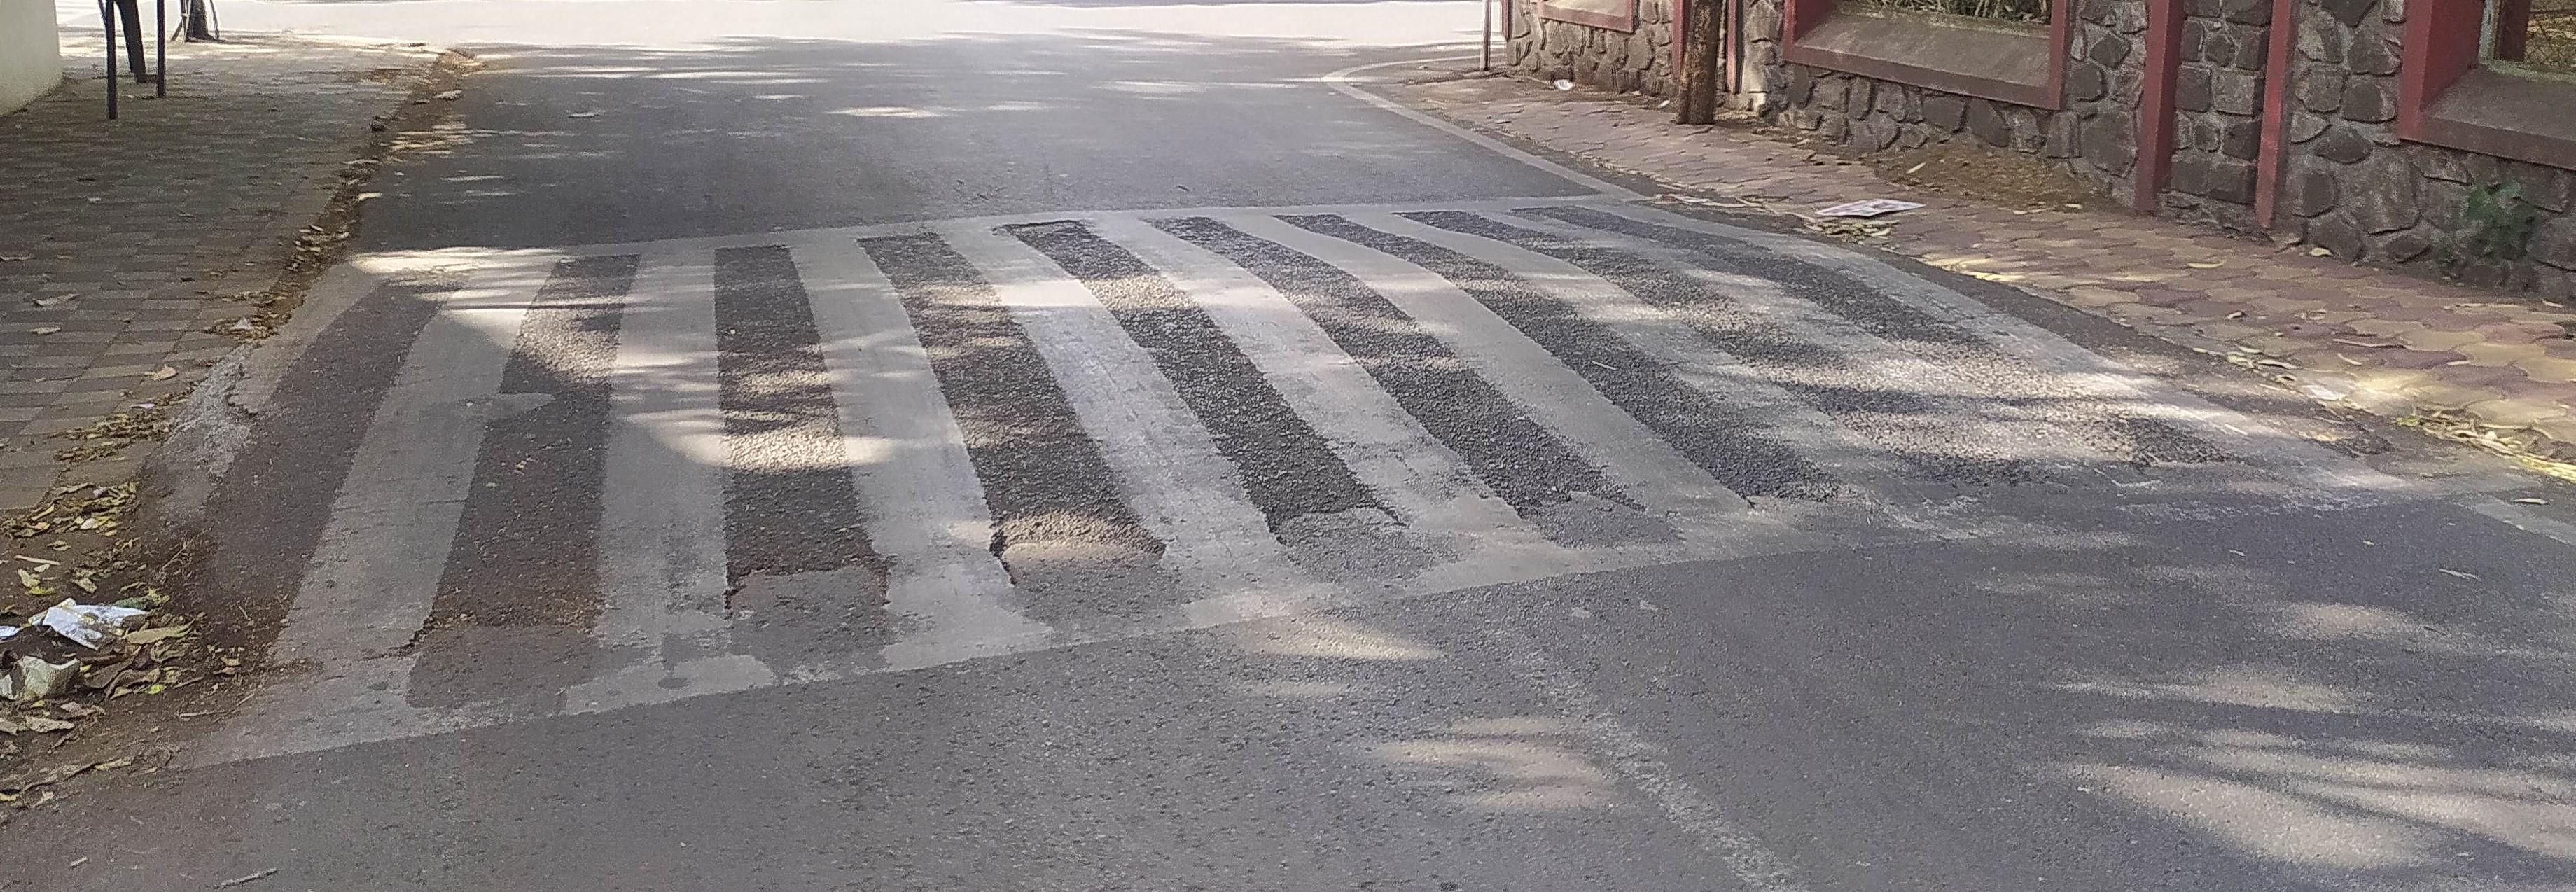speed-bump: (109, 185, 2516, 663)
